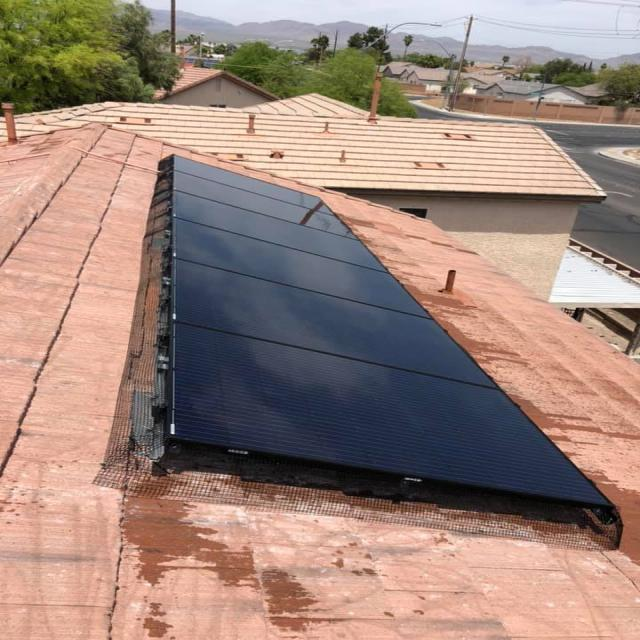clean-solar-panel: (173, 322, 610, 505)
